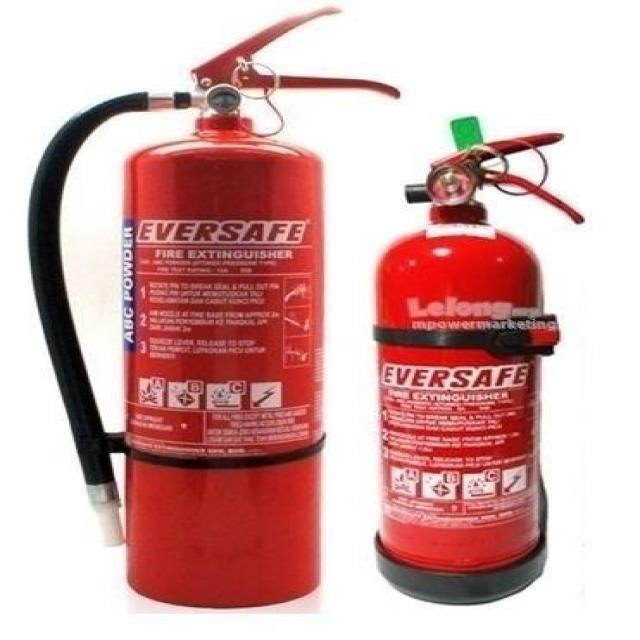fire_extinguisher: (18, 1, 405, 616), (365, 112, 591, 610)
